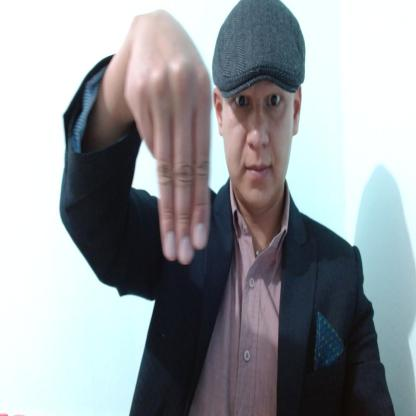M: (123, 14, 212, 263)
